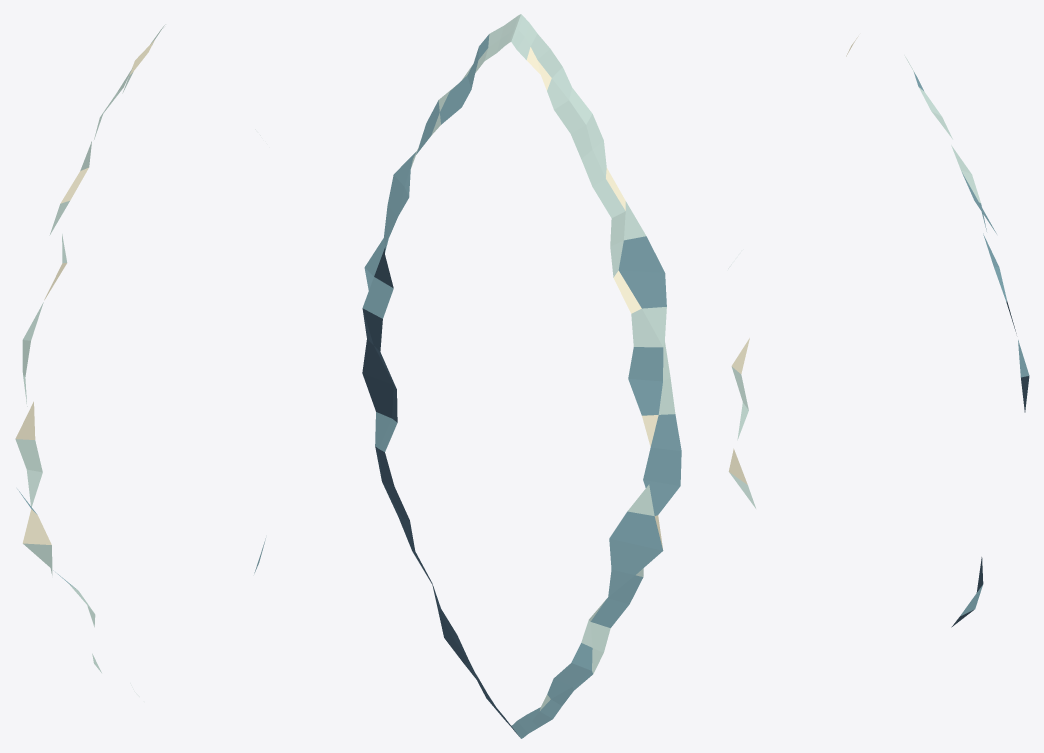
The model's file is rift_frame.glb.
3 views of the same model, side by side, from view 1: azimuth 30°, elevation 25°; view 2: azimuth 150°, elevation 25°; view 3: azimuth 330°, elevation 25° (orthographic).
Parts seen in each view (by area): view 1: rift_frame; view 2: rift_frame; view 3: rift_frame.
Boxes of the visible parts, left/top/right/bottom form: rift_frame: left=15, top=24, right=265, bottom=696; rift_frame: left=362, top=14, right=681, bottom=738; rift_frame: left=728, top=36, right=1029, bottom=627.
Size of the model in its own units: 1.47 by 3.18 by 0.08.
